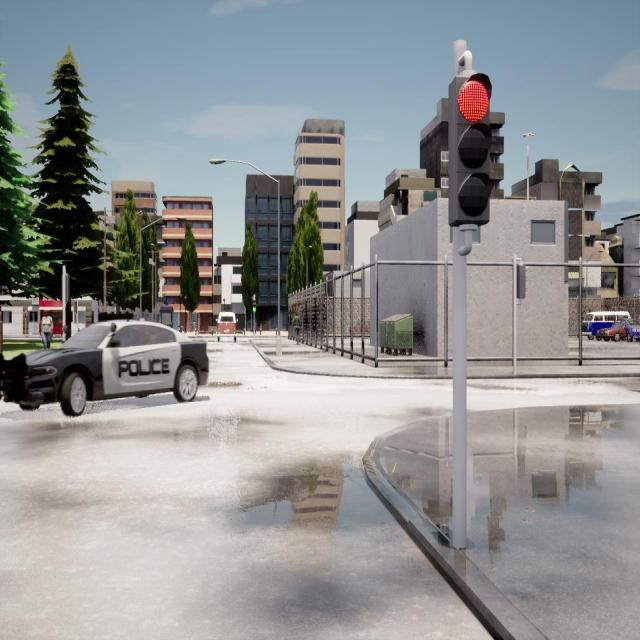Pedestrian: (41, 311, 53, 350), (292, 312, 300, 344)
Traffic_Signs: (25, 310, 28, 317)
Vehicle: (5, 323, 208, 415), (582, 312, 630, 339), (216, 313, 236, 342), (596, 324, 625, 341), (624, 318, 640, 341)
traffic_light: (449, 79, 491, 221), (517, 264, 526, 299), (66, 276, 69, 302), (252, 299, 256, 312), (74, 301, 77, 312)
